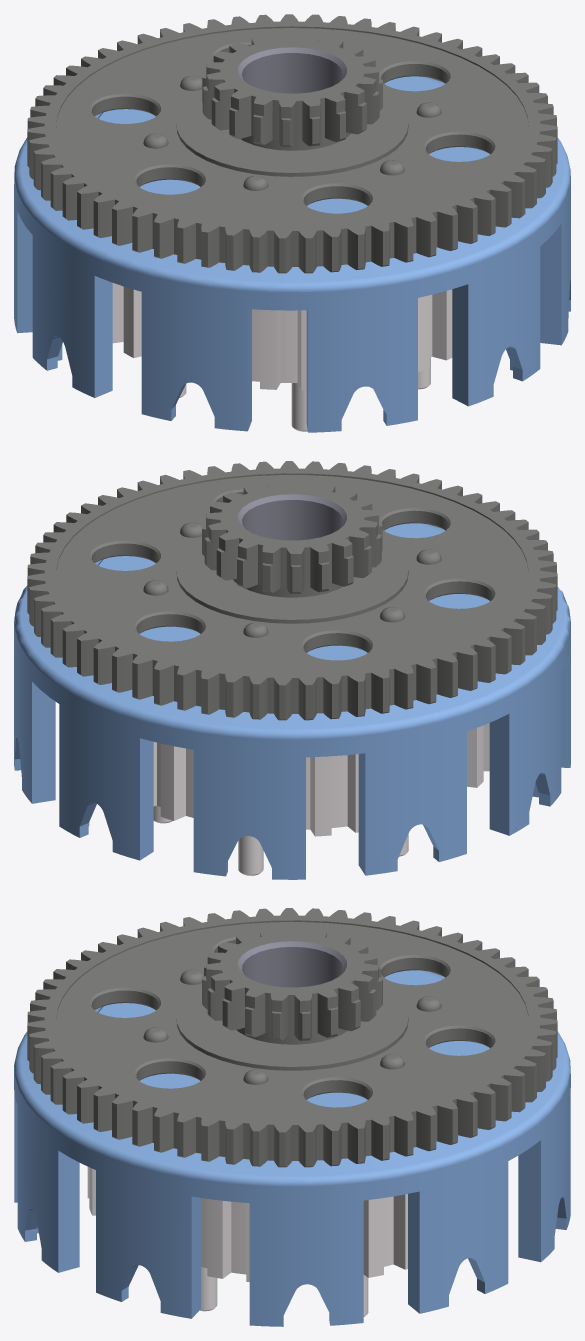
The model's file is Clutch_step4.fbx.
The picture shows the model from 3 angles, top to bottom: view 1: azimuth 30°, elevation 25°; view 2: azimuth 150°, elevation 25°; view 3: azimuth 270°, elevation 25°; orthographic projection.
Parts seen in each view (by area): view 1: Plate, steel; view 2: Plate, steel; view 3: Plate, steel.
Part boxes in pixels (<box>): Plate, steel: <box>14,14,570,432</box>; Plate, steel: <box>14,461,570,879</box>; Plate, steel: <box>14,908,570,1326</box>.
Bounding box in the file's own units: 13.2 × 7.9 × 13.2.
